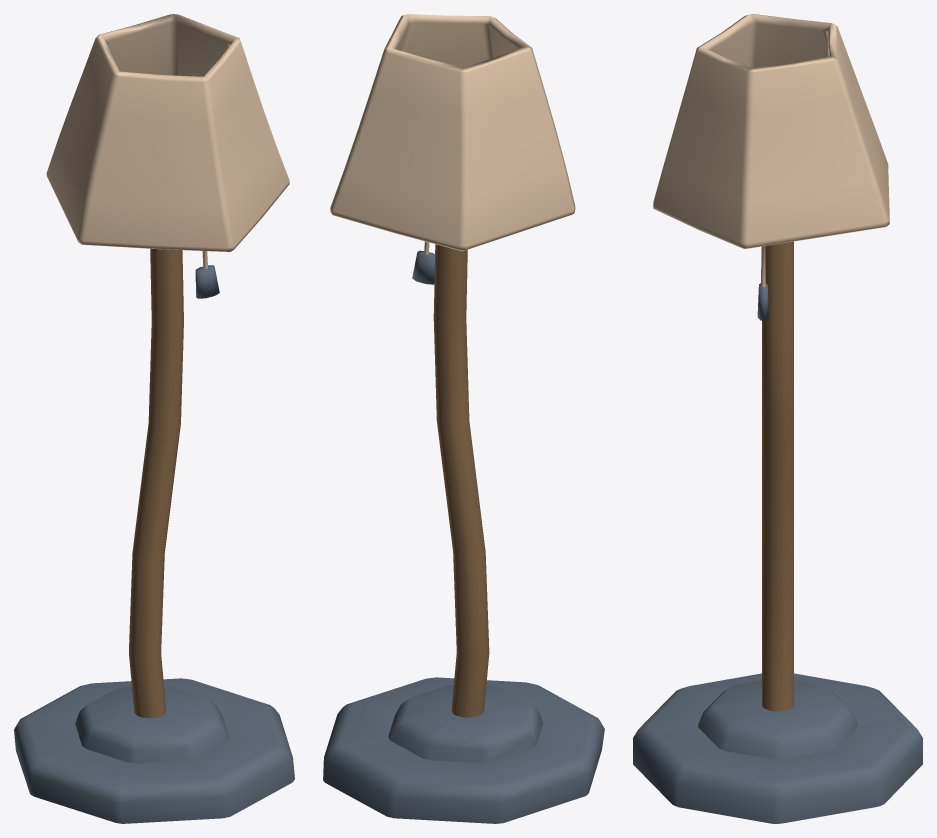
The model's file is props_longLamp.fbx.
The picture shows the model from 3 angles, left to right: view 1: azimuth 30°, elevation 25°; view 2: azimuth 150°, elevation 25°; view 3: azimuth 270°, elevation 25°; orthographic projection.
Parts seen in each view (by area): view 1: LampeLongue.001; view 2: LampeLongue.001; view 3: LampeLongue.001.
Part boxes in pixels (x1,y1,x2,y2): LampeLongue.001: (14,14,294,823); LampeLongue.001: (323,14,604,823); LampeLongue.001: (633,14,922,823).
Bounding box in the file's own units: 59.63 × 164 × 59.17.
